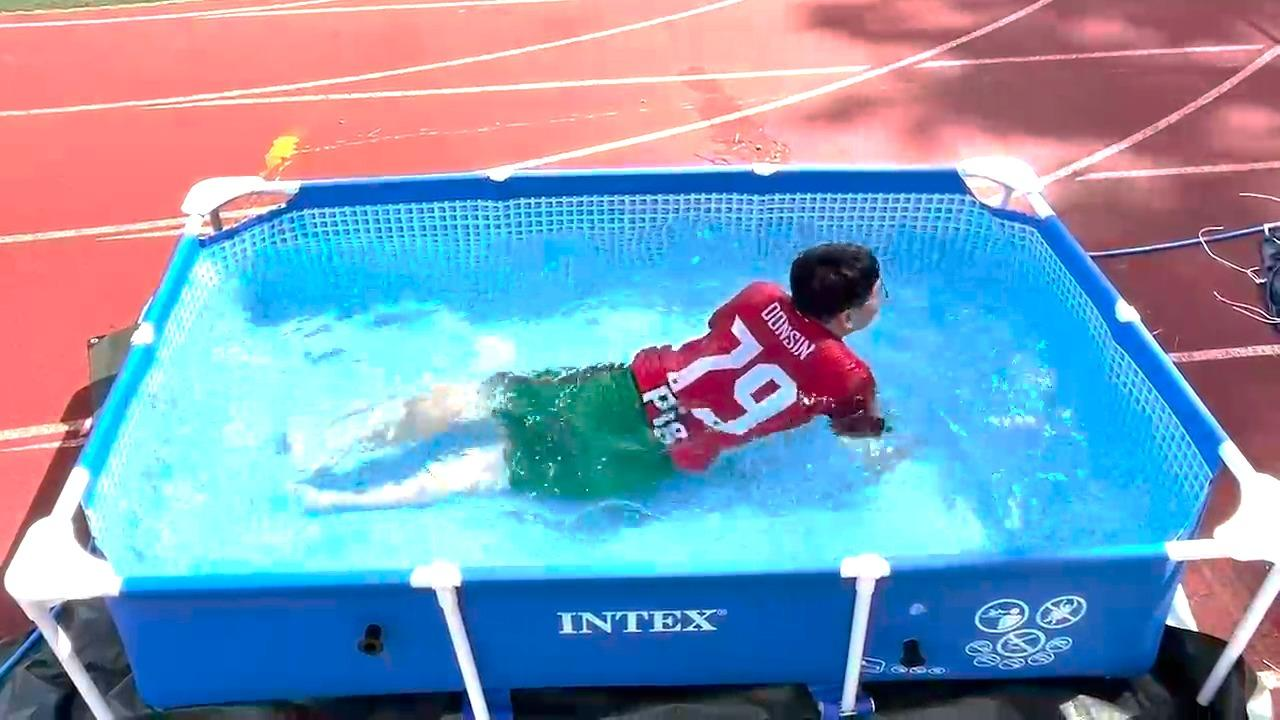Swimming: (280, 240, 918, 541)
